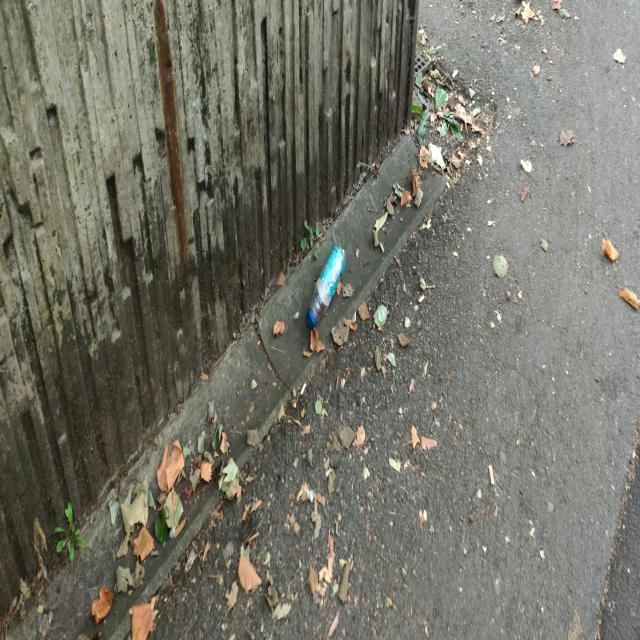litter: (306, 240, 346, 330)
